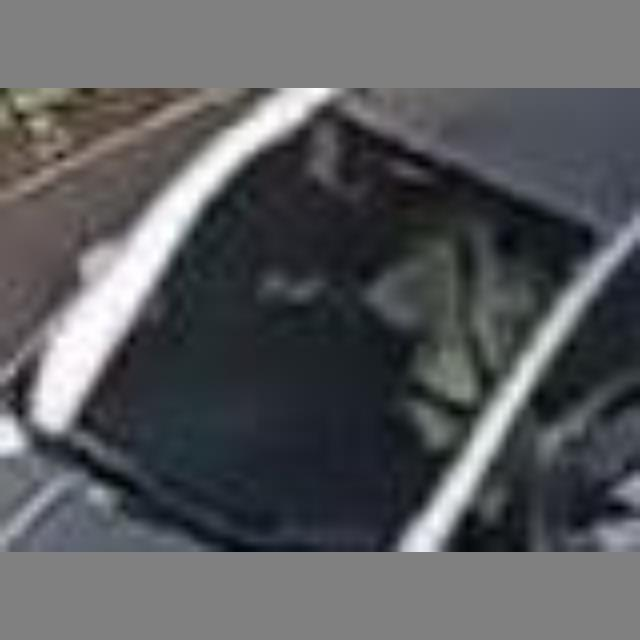pakai: (296, 200, 528, 416)
